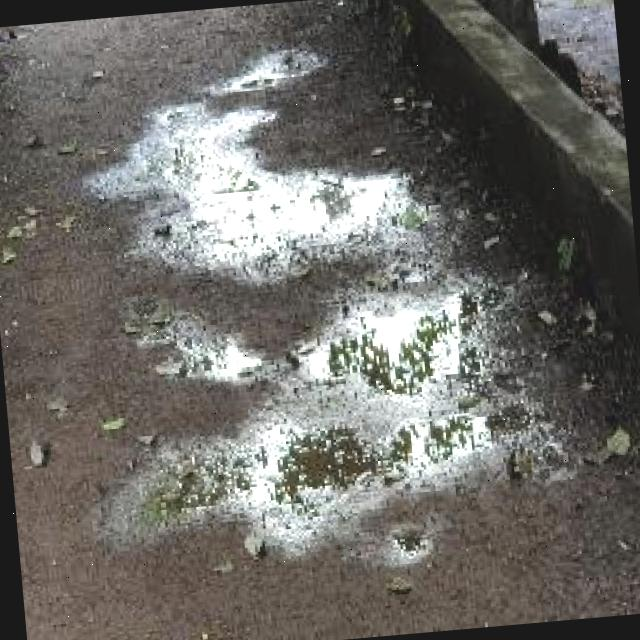stagnation: (74, 243, 592, 586), (94, 154, 452, 278), (190, 27, 342, 105)
